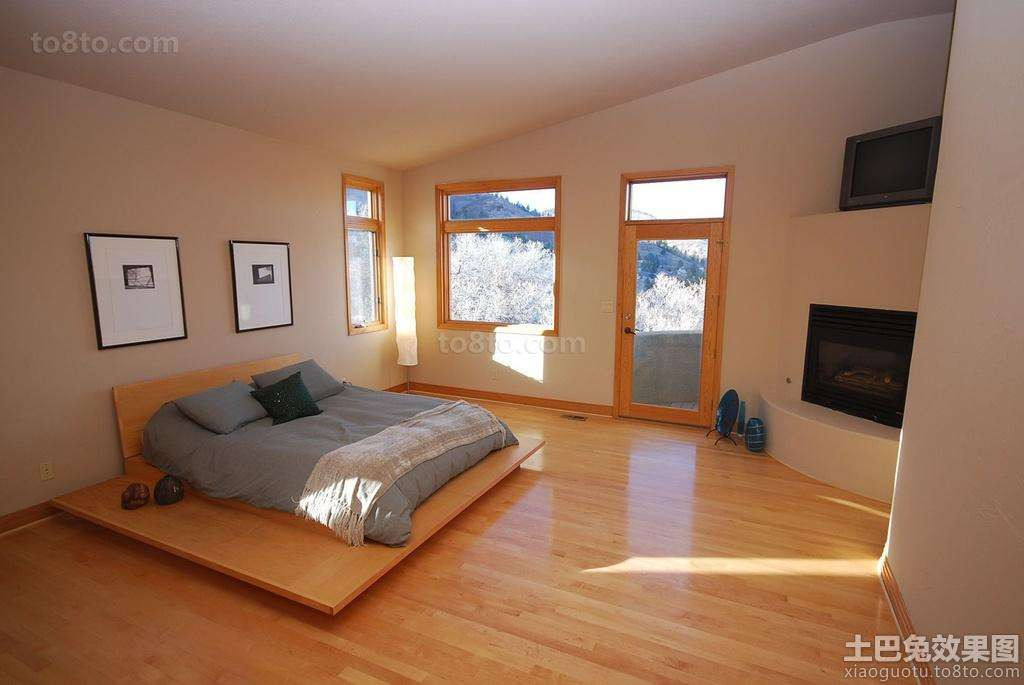床: (119, 382, 518, 548)
枕头: (177, 372, 345, 434)
灯: (386, 253, 420, 369)
